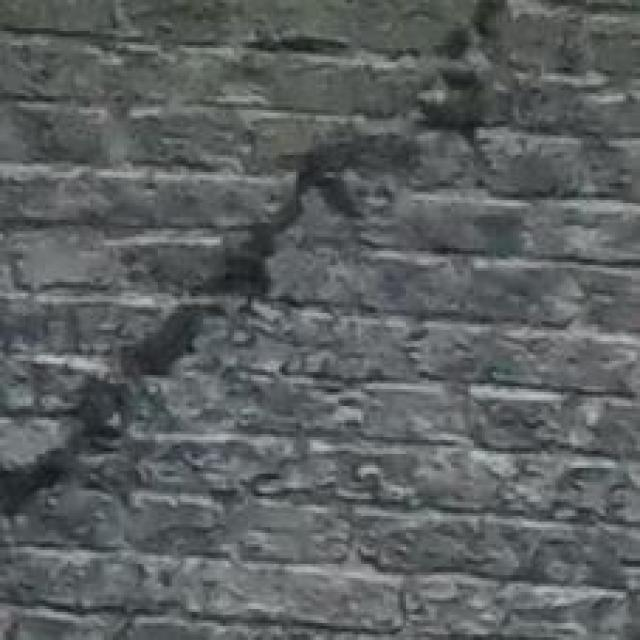Crack: (0, 0, 536, 550)
